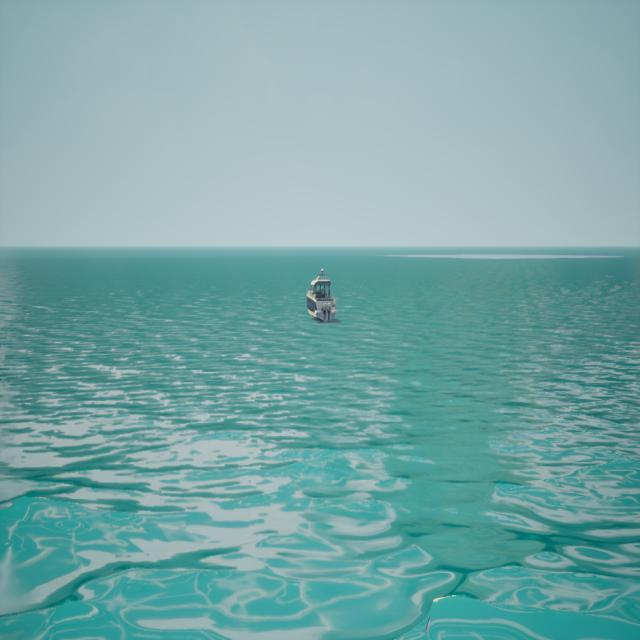ship: (304, 268, 336, 321)
